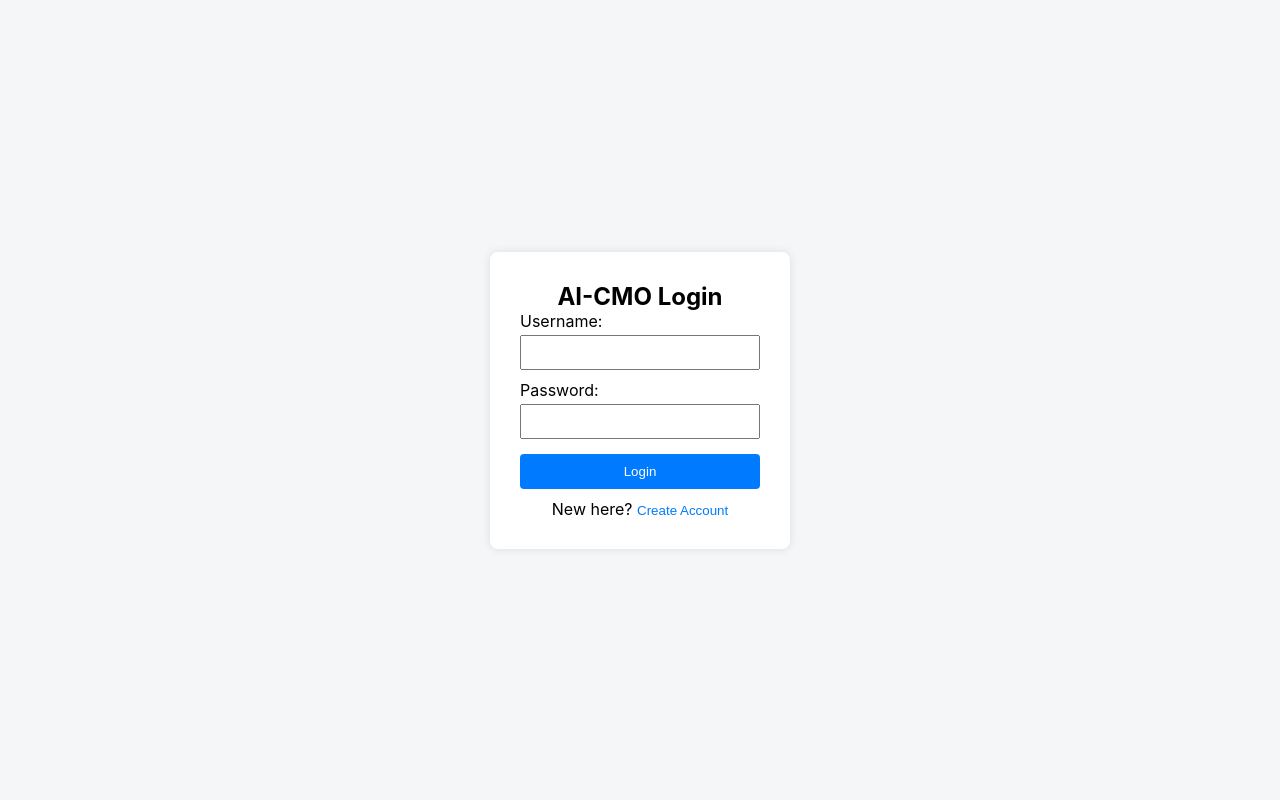
App Component › should login successfully and show dashboard
Type "testuser" into the field with test id "username-input".
click(640, 352); type("testuser")  # box 520,334 -> 760,370
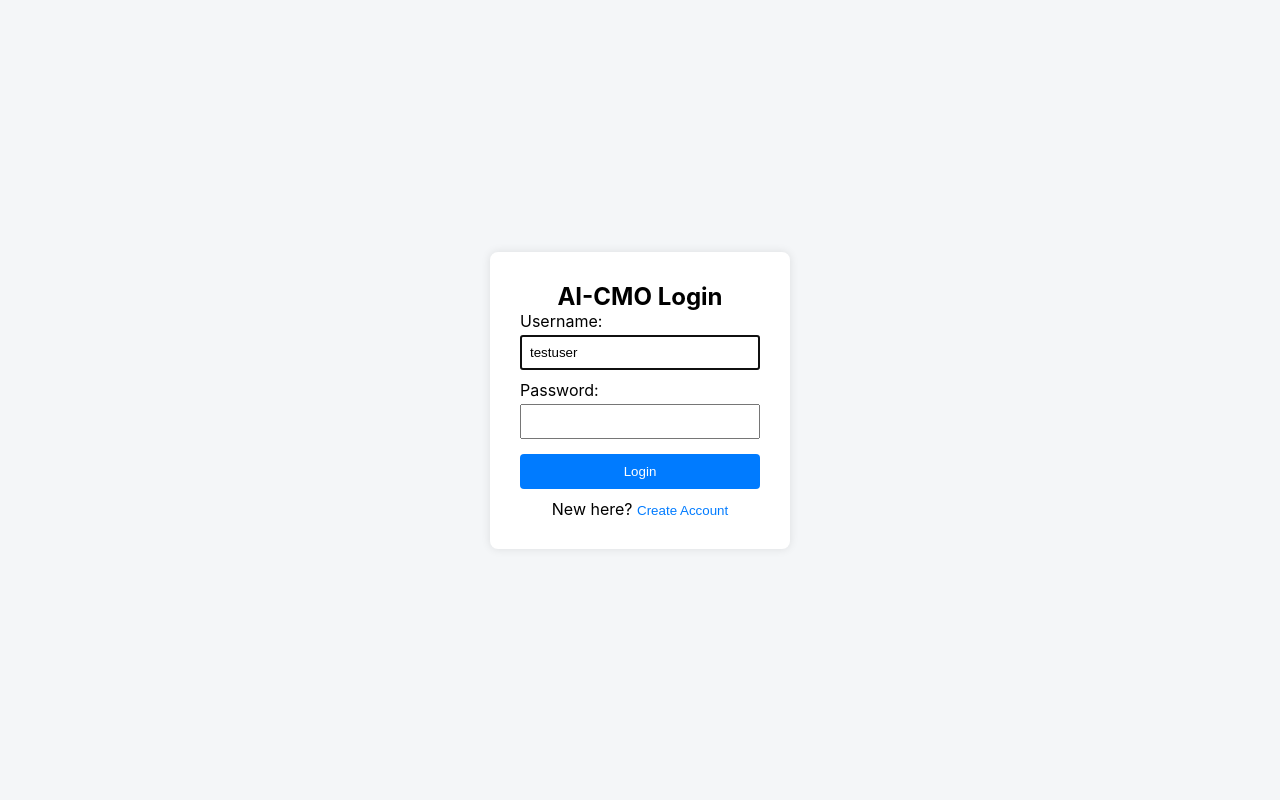
Type "password123" into the password field with test id "password-input".
click(640, 421); type("password123")  # box 520,404 -> 760,438
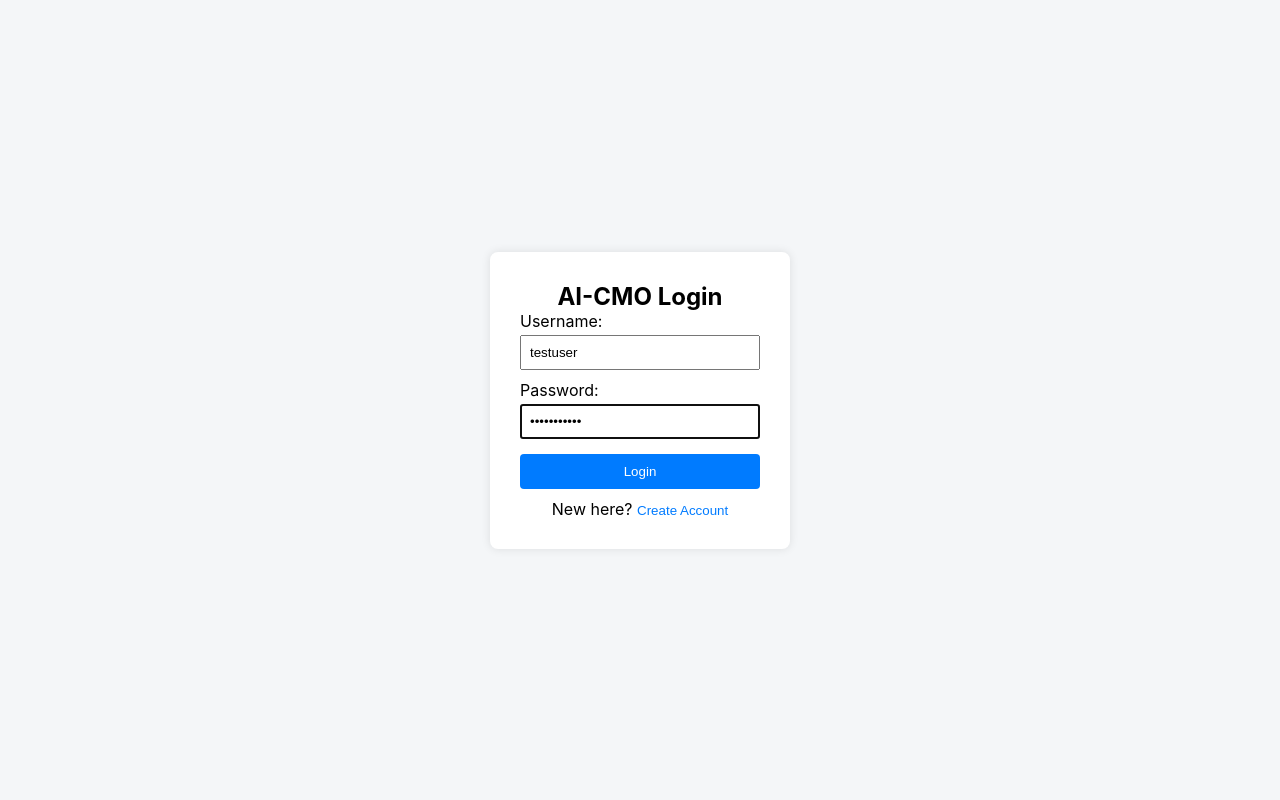
Click the button with test id "submit-button".
click(640, 471)  # box 520,454 -> 760,488
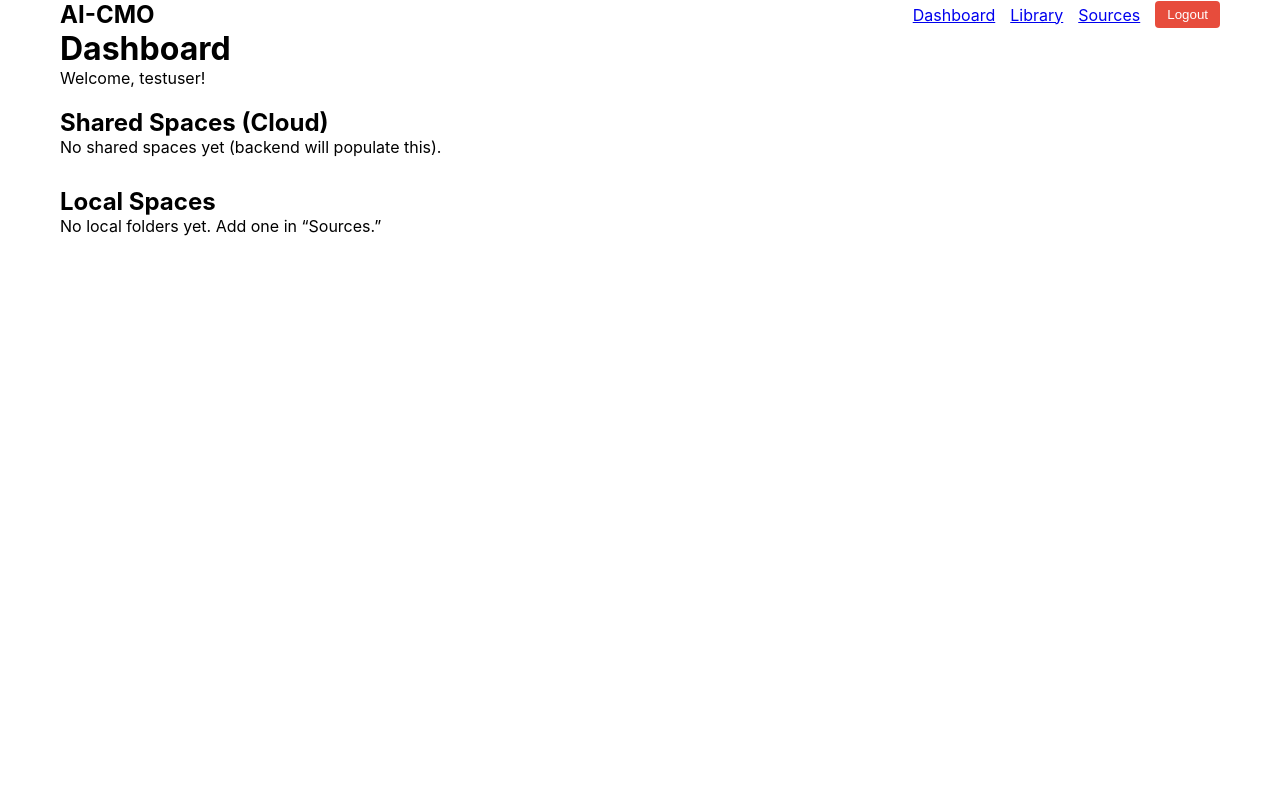
Now the header with test id "navbar" is shown, box 0,0 -> 1279,29
Now the text "Welcome, testuser!" is shown, box 60,68 -> 205,88
